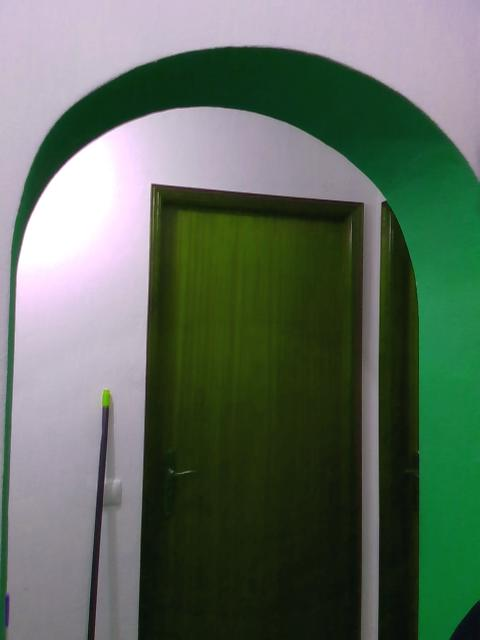closed_door: (140, 183, 365, 638)
